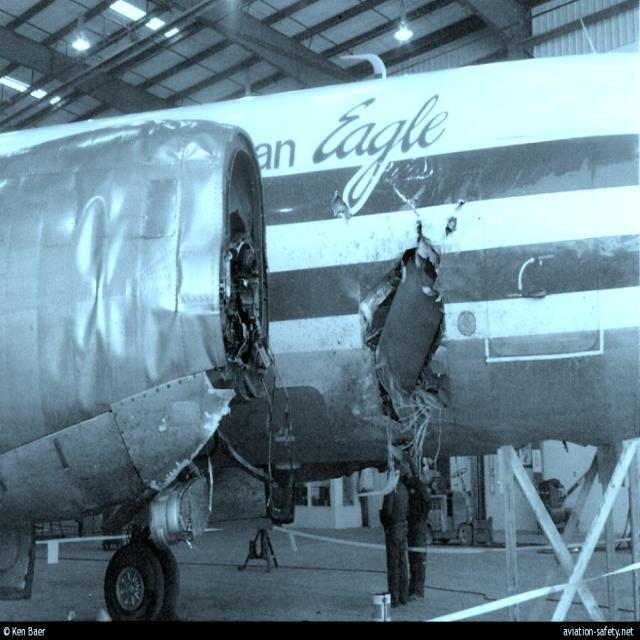dent: (75, 202, 108, 281), (142, 313, 177, 380), (113, 304, 136, 356), (80, 282, 96, 345)
